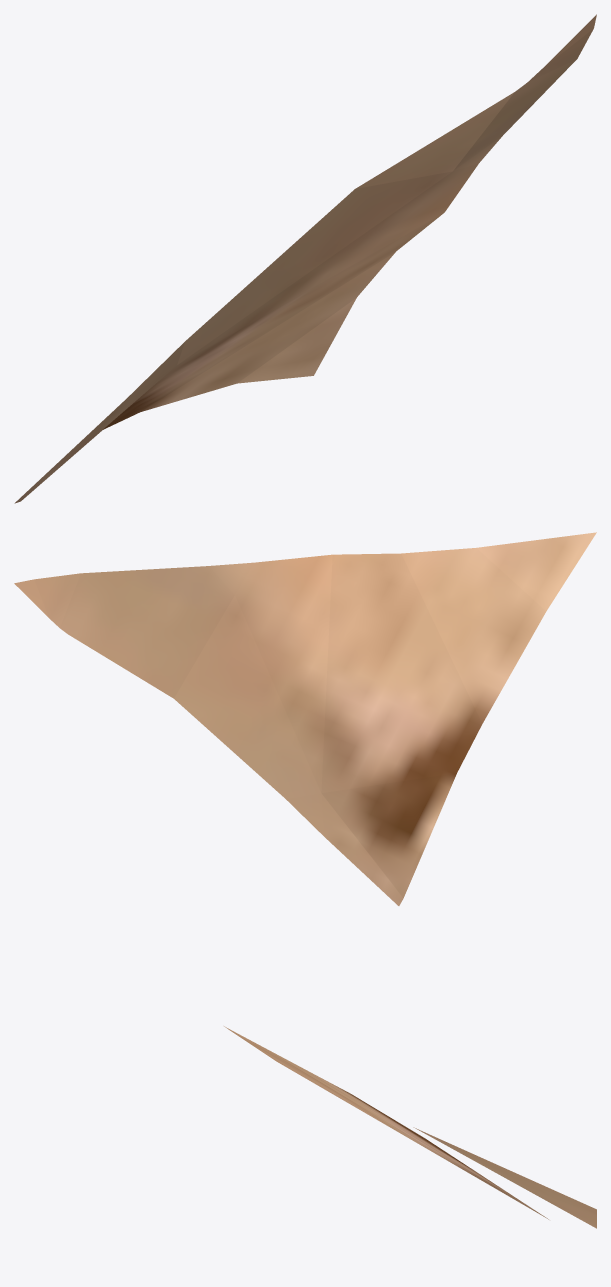
3 views of the same model, one above another, from view 1: azimuth 30°, elevation 25°; view 2: azimuth 150°, elevation 25°; view 3: azimuth 270°, elevation 25° (orthographic). The views are drawn at different scales.
Bounding box in the file's own units: 0.0589 × 0.0335 × 0.0524.
1 material, 1 textured.
